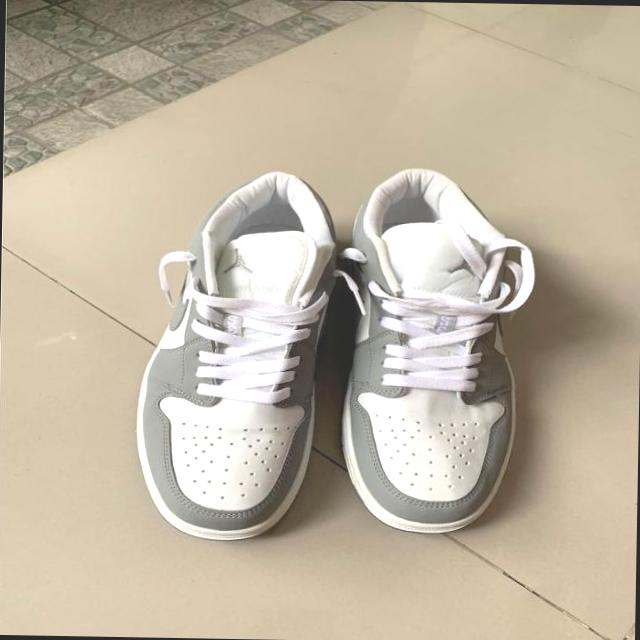nike_fake_jordan: (334, 148, 546, 539), (132, 162, 338, 547)
